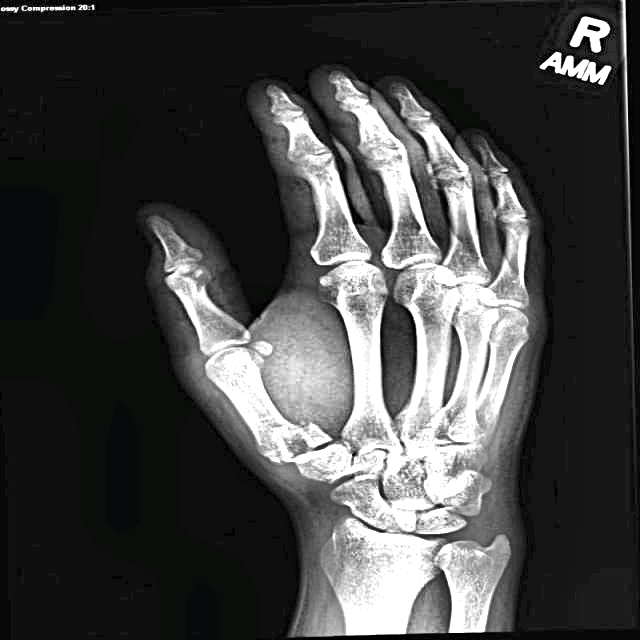Comminuted: (258, 412, 343, 473)
